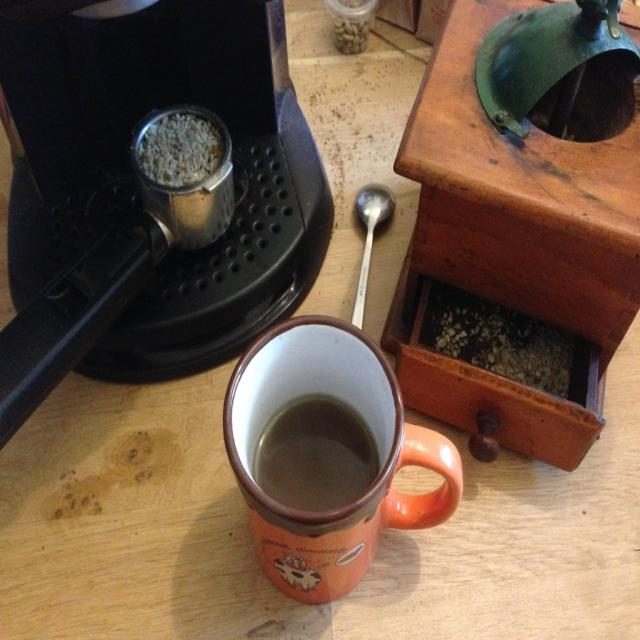Coffee: (258, 396, 380, 510)
Tea: (246, 398, 381, 514)
